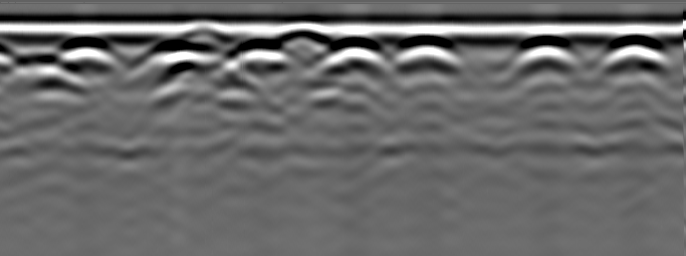pipe: (172, 23, 236, 46), (272, 22, 330, 47)
steel: (603, 37, 668, 72), (512, 39, 578, 71), (394, 41, 459, 72), (326, 41, 386, 74), (57, 40, 116, 68), (149, 46, 207, 74), (237, 41, 288, 72)
